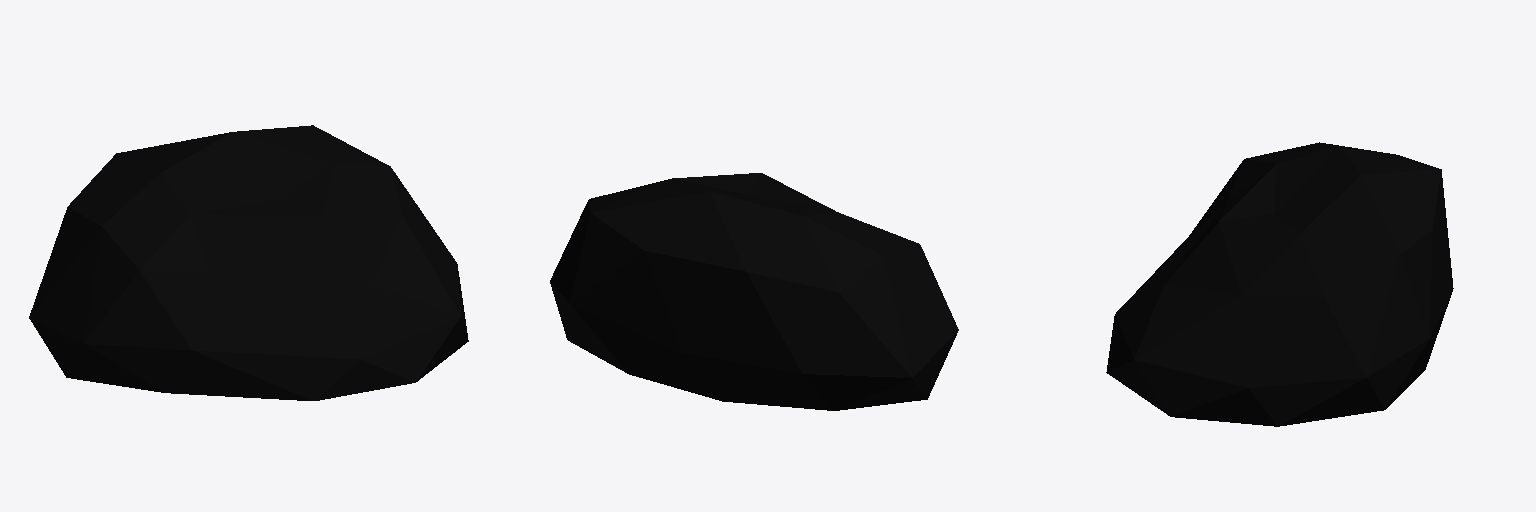
Rendered from rock2.obj.
3 renders of one model, left to right at view 1: azimuth 30°, elevation 25°; view 2: azimuth 150°, elevation 25°; view 3: azimuth 270°, elevation 25°, orthographic.
Size of the model in its own units: 0.6133 by 0.2844 by 0.4964.